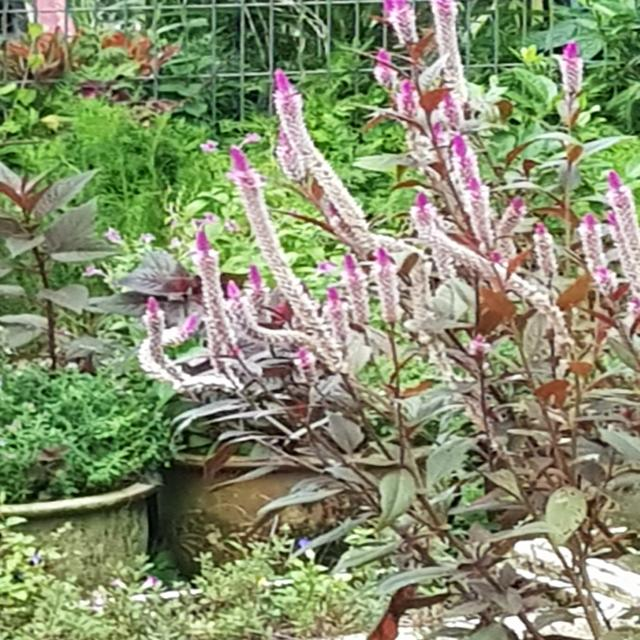Celosia-Argentea: (410, 183, 640, 359), (226, 141, 340, 361), (282, 61, 382, 281), (376, 37, 478, 185), (189, 218, 243, 395), (135, 296, 202, 406), (554, 27, 588, 124)
